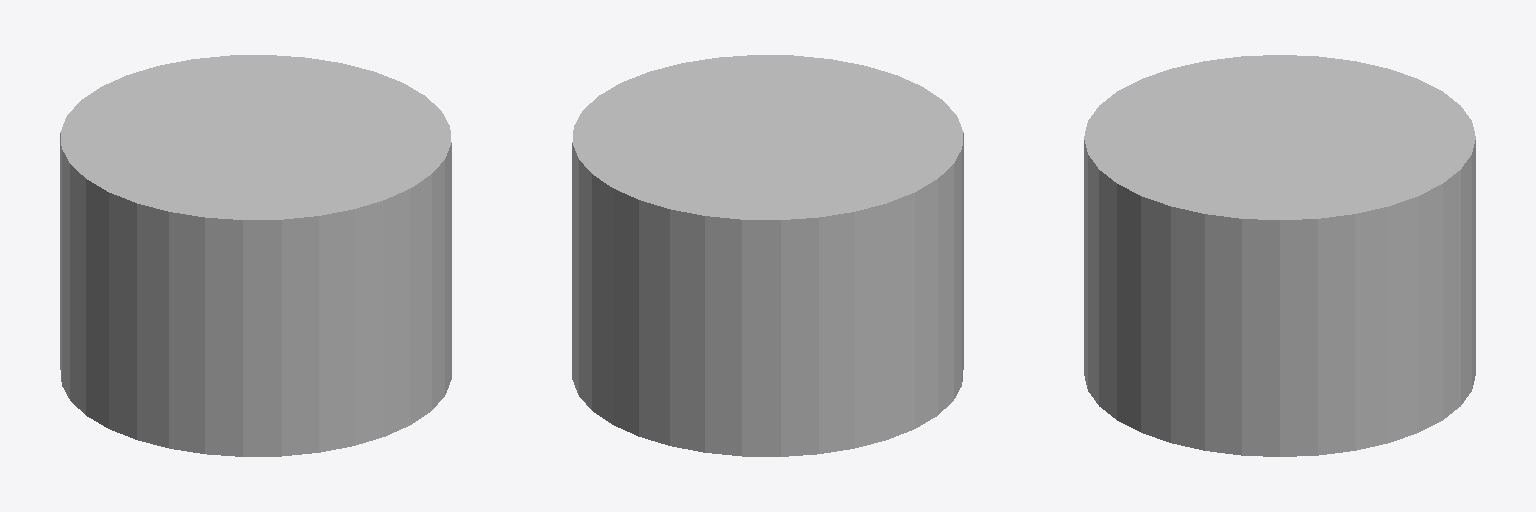
Rendered from bumper.obj.
3 renders of one model, left to right at view 1: azimuth 30°, elevation 25°; view 2: azimuth 150°, elevation 25°; view 3: azimuth 270°, elevation 25°, orthographic.
Visible parts, largest first — view 1: Bumber_Cylinder; view 2: Bumber_Cylinder; view 3: Bumber_Cylinder.
Part boxes in pixels (x1,y1,x2,y2): Bumber_Cylinder: (60, 55, 451, 456); Bumber_Cylinder: (572, 55, 963, 456); Bumber_Cylinder: (1084, 55, 1475, 456).
Size of the model in its own units: 6 by 4 by 6.